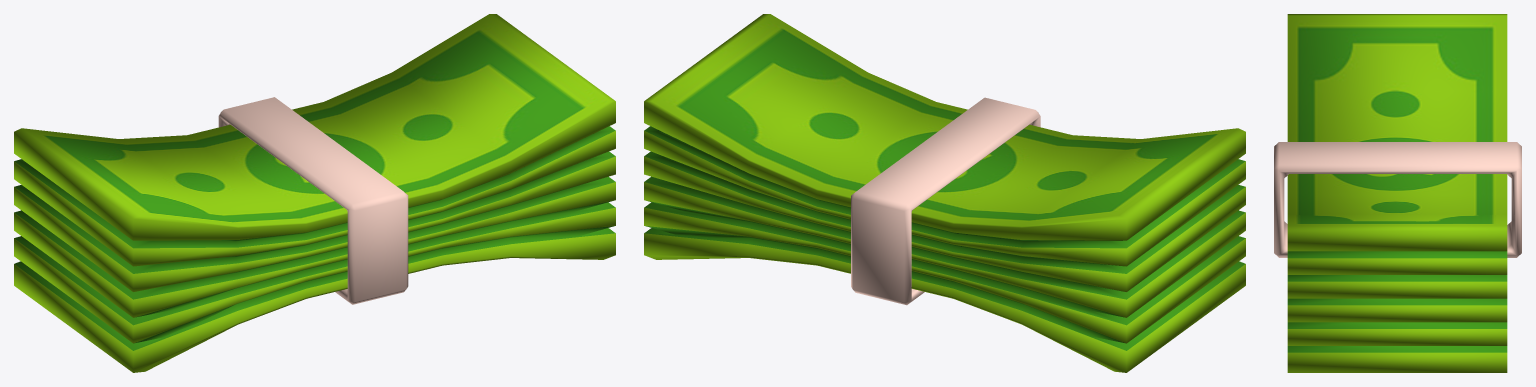
Rendered from money.fbx.
3 views of the same model, side by side, from view 1: azimuth 30°, elevation 25°; view 2: azimuth 150°, elevation 25°; view 3: azimuth 270°, elevation 25° (orthographic). The views are drawn at different scales.
Parts seen in each view (by area): view 1: money_box.002; view 2: money_box.002; view 3: money_box.002.
Part boxes in pixels (x1,y1,x2,y2): money_box.002: (14, 14, 615, 372); money_box.002: (644, 14, 1245, 372); money_box.002: (1274, 14, 1521, 372).
Size of the model in its own units: 135 by 42.13 by 65.18.
